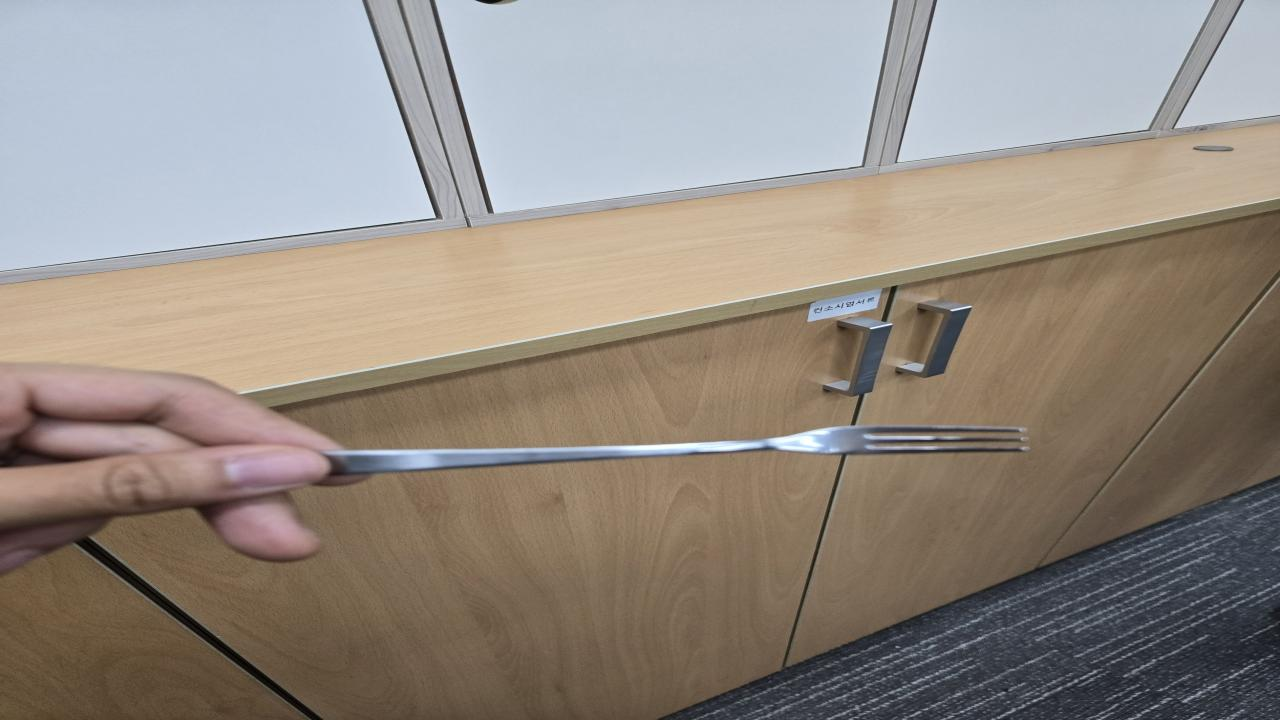fork: (328, 424, 1032, 475)
